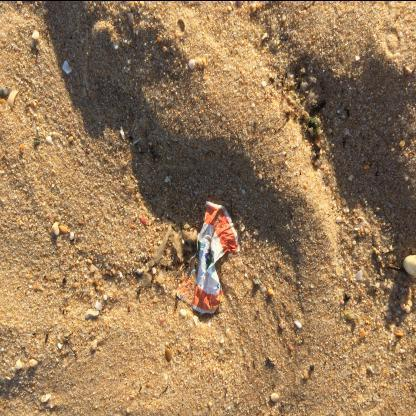plastik: (175, 200, 241, 315)
